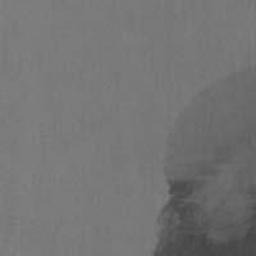Oil spot: (150, 63, 256, 256)
